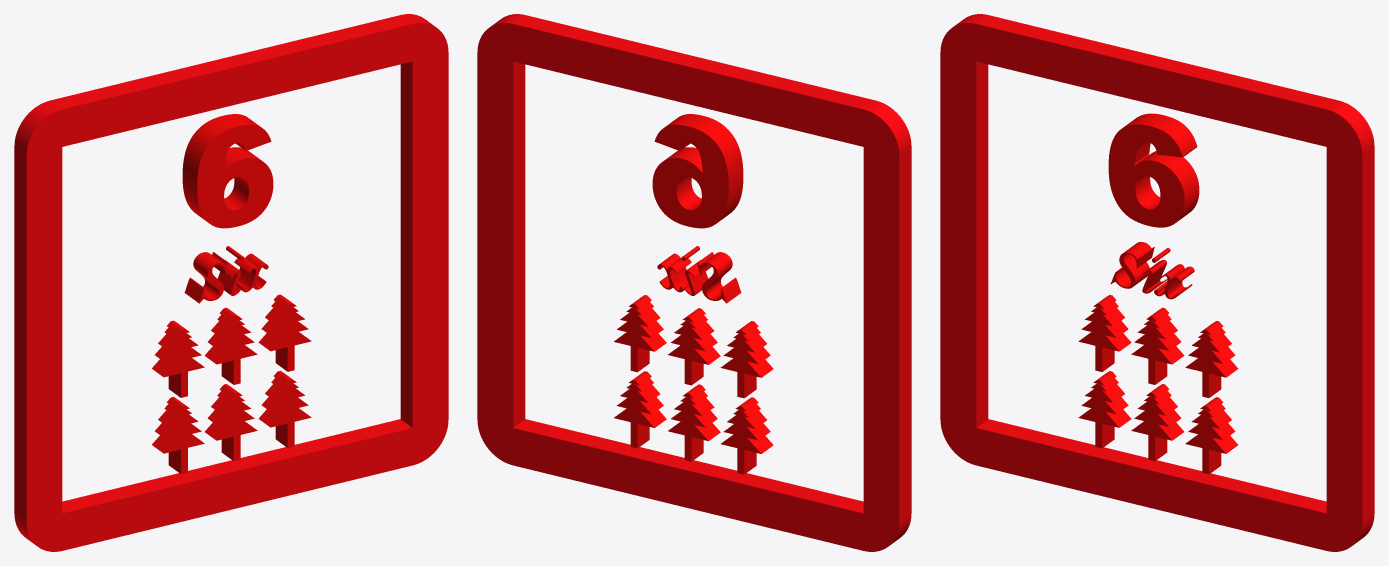
Rendered from Number_6.glb.
3 views of the same model, side by side, from view 1: azimuth 30°, elevation 25°; view 2: azimuth 150°, elevation 25°; view 3: azimuth 330°, elevation 25° (orthographic).
Parts seen in each view (by area): view 1: Cube, Text, Text.001, Cube.002, Cube.020, Cube.035, Cube.017, Cube.026, Cube.011; view 2: Cube, Text, Text.001, Cube.035, Cube.017, Cube.020, Cube.011, Cube.026, Cube.002; view 3: Cube, Text, Text.001, Cube.020, Cube.017, Cube.026, Cube.011, Cube.035, Cube.002.
Part boxes in pixels (<box>): Cube: <box>14,14,448,551</box>; Text: <box>182,114,273,228</box>; Text.001: <box>184,246,268,303</box>; Cube.002: <box>204,344,257,364</box>; Cube.020: <box>258,407,311,427</box>; Cube.035: <box>205,421,257,440</box>; Cube.017: <box>258,331,311,351</box>; Cube.026: <box>152,433,204,453</box>; Cube.011: <box>152,358,204,377</box>; Cube: <box>477,14,911,551</box>; Text: <box>652,114,743,228</box>; Text.001: <box>657,246,741,303</box>; Cube.035: <box>668,421,720,441</box>; Cube.017: <box>614,332,666,351</box>; Cube.020: <box>614,408,666,427</box>; Cube.011: <box>720,358,773,377</box>; Cube.026: <box>721,434,773,453</box>; Cube.002: <box>668,345,720,364</box>; Cube: <box>940,14,1374,551</box>; Text: <box>1108,113,1199,227</box>; Text.001: <box>1110,242,1194,299</box>; Cube.020: <box>1185,434,1237,453</box>; Cube.017: <box>1185,358,1238,377</box>; Cube.026: <box>1078,407,1131,427</box>; Cube.011: <box>1078,331,1131,351</box>; Cube.035: <box>1131,421,1183,440</box>; Cube.002: <box>1131,345,1184,364</box>.
Size of the model in its own units: 2 by 2 by 0.12.
